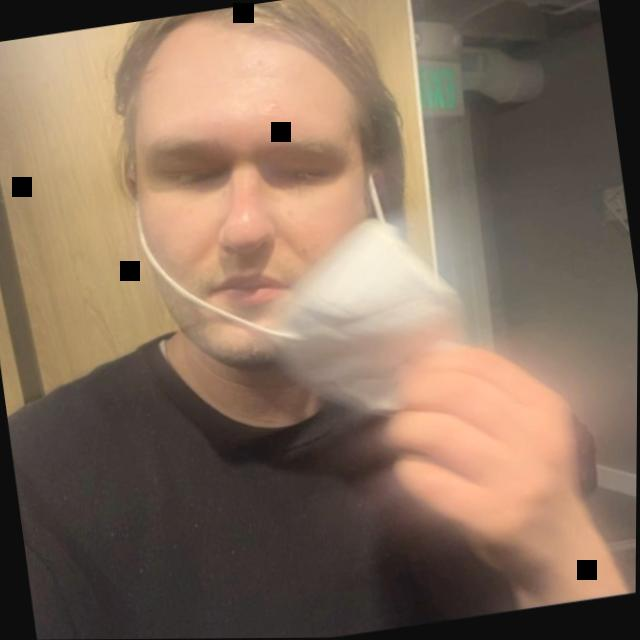NO-Mask: (89, 0, 471, 367)
